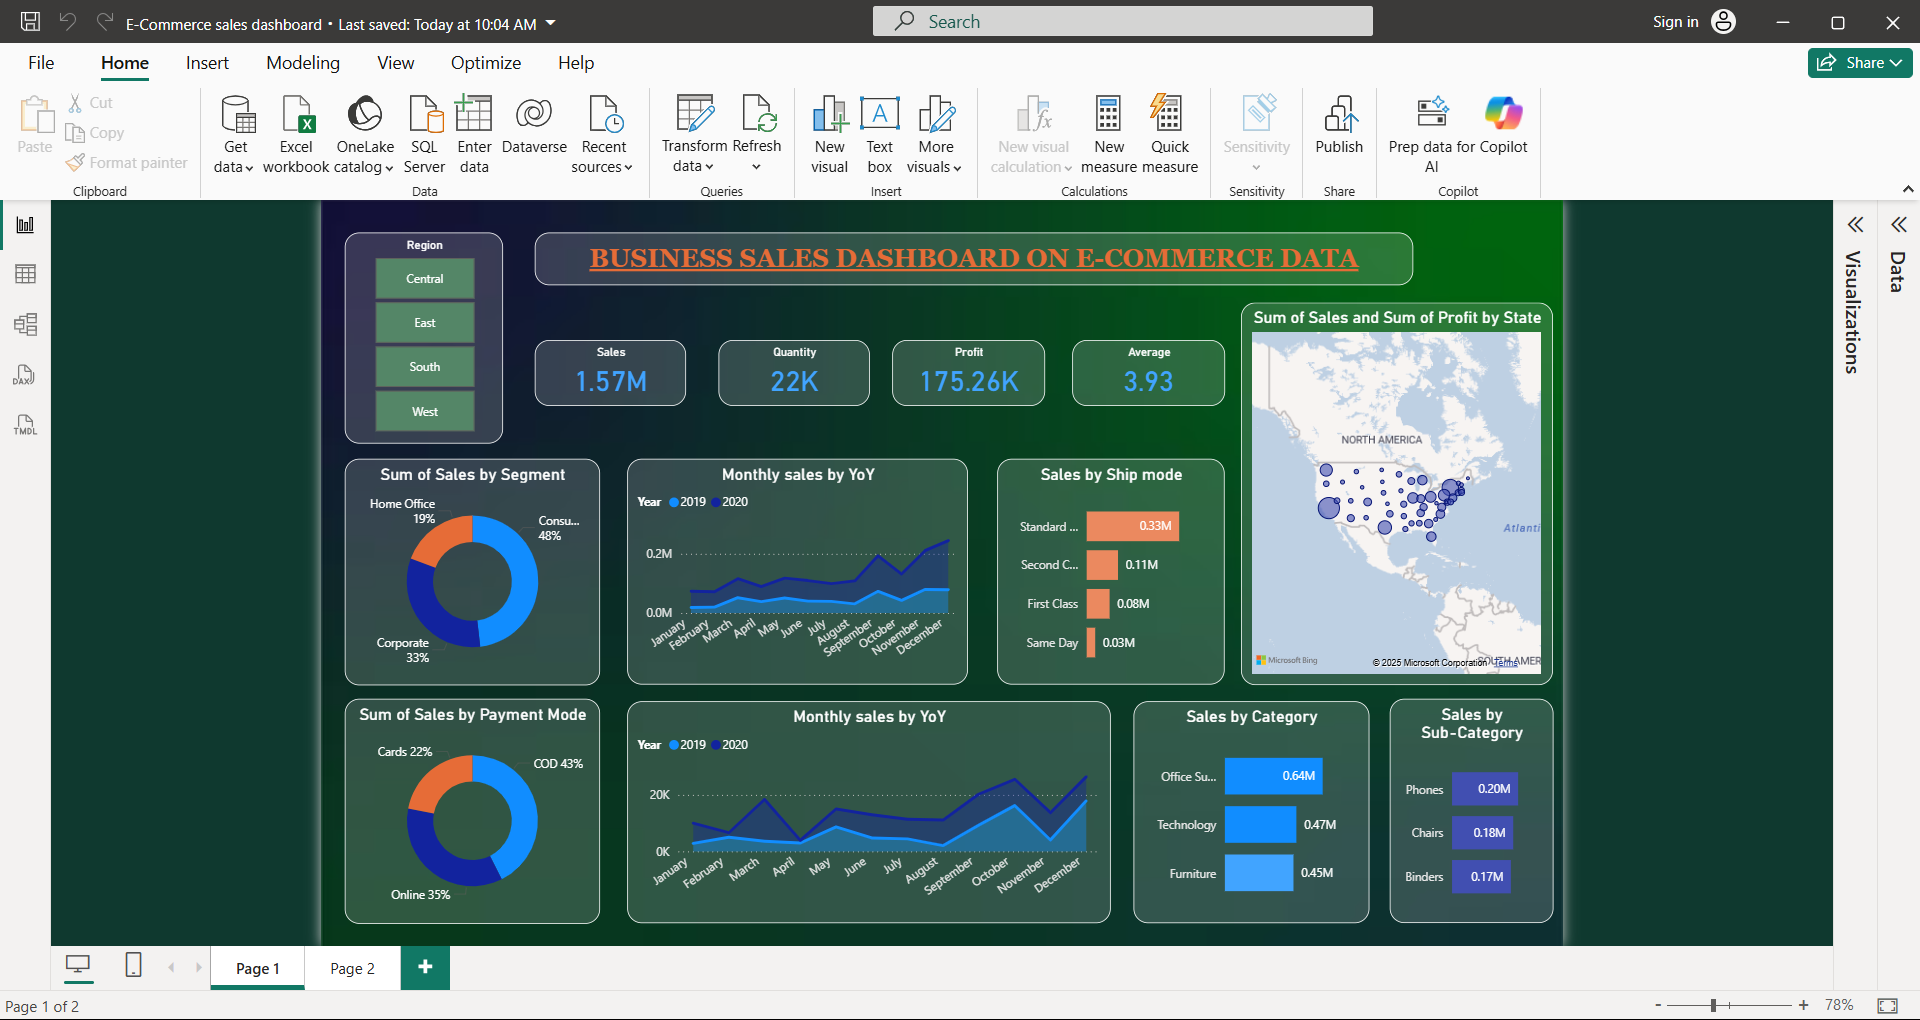

Layout of this report page (visuals, bound fields, positions):
{"tool":"powerbi","page":{"name":"Page 1","canvas":[1280,769],"ordinal":0},"visuals":[{"type":"clusteredBarChart","title":"Sales by Category","fields":{"Category":["SuperStore_Sales_Dataset.Category"],"Y":["Sum(SuperStore_Sales_Dataset.Sales)"]},"box":[837.1,517.1,242.9,228.6],"z":0},{"type":"clusteredBarChart","title":"Sales by Sub-Category","fields":{"Category":["SuperStore_Sales_Dataset.Sub-Category"],"Y":["Sum(SuperStore_Sales_Dataset.Sales)"]},"box":[1101.4,514.3,168.6,231.4],"z":1000},{"type":"clusteredBarChart","title":"Sales by Ship mode","fields":{"Category":["SuperStore_Sales_Dataset.Ship Mode"],"Y":["Sum(SuperStore_Sales_Dataset.Sales)"]},"box":[697.1,267.1,234.3,232.9],"z":2000},{"type":"stackedAreaChart","title":"Monthly sales by YoY","fields":{"Y":["Sum(SuperStore_Sales_Dataset.Sales)"],"Category":["SuperStore_Sales_Dataset.Order Date.Variation.Date Hierarchy.Month","SuperStore_Sales_Dataset.Order Date.Variation.Date Hierarchy.Day"],"Series":["SuperStore_Sales_Dataset.Order Date.Variation.Date Hierarchy.Year"]},"box":[315.7,267.1,351.4,232.9],"z":3000},{"type":"stackedAreaChart","title":"Monthly sales by YoY","fields":{"Category":["SuperStore_Sales_Dataset.Order Date.Variation.Date Hierarchy.Month","SuperStore_Sales_Dataset.Order Date.Variation.Date Hierarchy.Day"],"Series":["SuperStore_Sales_Dataset.Order Date.Variation.Date Hierarchy.Year"],"Y":["Sum(SuperStore_Sales_Dataset.Profit)"]},"box":[315.7,517.1,498.6,228.6],"z":4000},{"type":"map","fields":{"Category":["SuperStore_Sales_Dataset.State"],"Size":["Sum(SuperStore_Sales_Dataset.Sales)"]},"box":[948.6,105.7,321.4,394.3],"z":5000},{"type":"donutChart","fields":{"Category":["SuperStore_Sales_Dataset.Segment"],"Y":["Sum(SuperStore_Sales_Dataset.Sales)"]},"box":[24.5,266.7,262.9,233.2],"z":6000},{"type":"donutChart","fields":{"Category":["SuperStore_Sales_Dataset.Payment Mode"],"Y":["Sum(SuperStore_Sales_Dataset.Sales)"]},"box":[24.5,514.1,262.9,231.9],"z":7000},{"type":"slicer","title":"Region","fields":{"Values":["SuperStore_Sales_Dataset.Region"]},"box":[24.1,32.9,163.3,217.7],"z":8000},{"type":"textbox","box":[220.3,33.5,905.8,54.1],"z":9000},{"type":"card","title":"Sales","fields":{"Values":["Sum(SuperStore_Sales_Dataset.Sales)"]},"box":[220.2,144.2,156,68.1],"z":10000},{"type":"card","title":"Quantity","fields":{"Values":["Sum(SuperStore_Sales_Dataset.Quantity)"]},"box":[410.2,144.2,156,68.1],"z":11000},{"type":"card","title":"Profit","fields":{"Values":["Sum(SuperStore_Sales_Dataset.Profit)"]},"box":[588.4,144.2,157.3,68.1],"z":12000},{"type":"card","title":"Average","fields":{"Values":["Avg(SuperStore_Sales_Dataset.Avg Delivery)"]},"box":[774.5,144.2,157.3,68.1],"z":13000}]}

Visuals, with their boxes on the page's 1280x769 design canvas (x1, y1, x2, y2). These are canvas units, not pixel positions in the 1920x1020 screenshot, which may show the page scaled, cropped or inside an application window:
"Sales by Category" clusteredBarChart: Rect(837, 517, 1080, 746)
"Sales by Sub-Category" clusteredBarChart: Rect(1101, 514, 1270, 746)
"Sales by Ship mode" clusteredBarChart: Rect(697, 267, 931, 500)
"Monthly sales by YoY" stackedAreaChart: Rect(316, 267, 667, 500)
"Monthly sales by YoY" stackedAreaChart: Rect(316, 517, 814, 746)
map - SuperStore_Sales_Dataset.State x Sum(SuperStore_Sales_Dataset.Sales): Rect(949, 106, 1270, 500)
donutChart - SuperStore_Sales_Dataset.Segment x Sum(SuperStore_Sales_Dataset.Sales): Rect(24, 267, 287, 500)
donutChart - SuperStore_Sales_Dataset.Payment Mode x Sum(SuperStore_Sales_Dataset.Sales): Rect(24, 514, 287, 746)
"Region" slicer: Rect(24, 33, 187, 251)
textbox: Rect(220, 34, 1126, 88)
"Sales" card: Rect(220, 144, 376, 212)
"Quantity" card: Rect(410, 144, 566, 212)
"Profit" card: Rect(588, 144, 746, 212)
"Average" card: Rect(774, 144, 932, 212)
